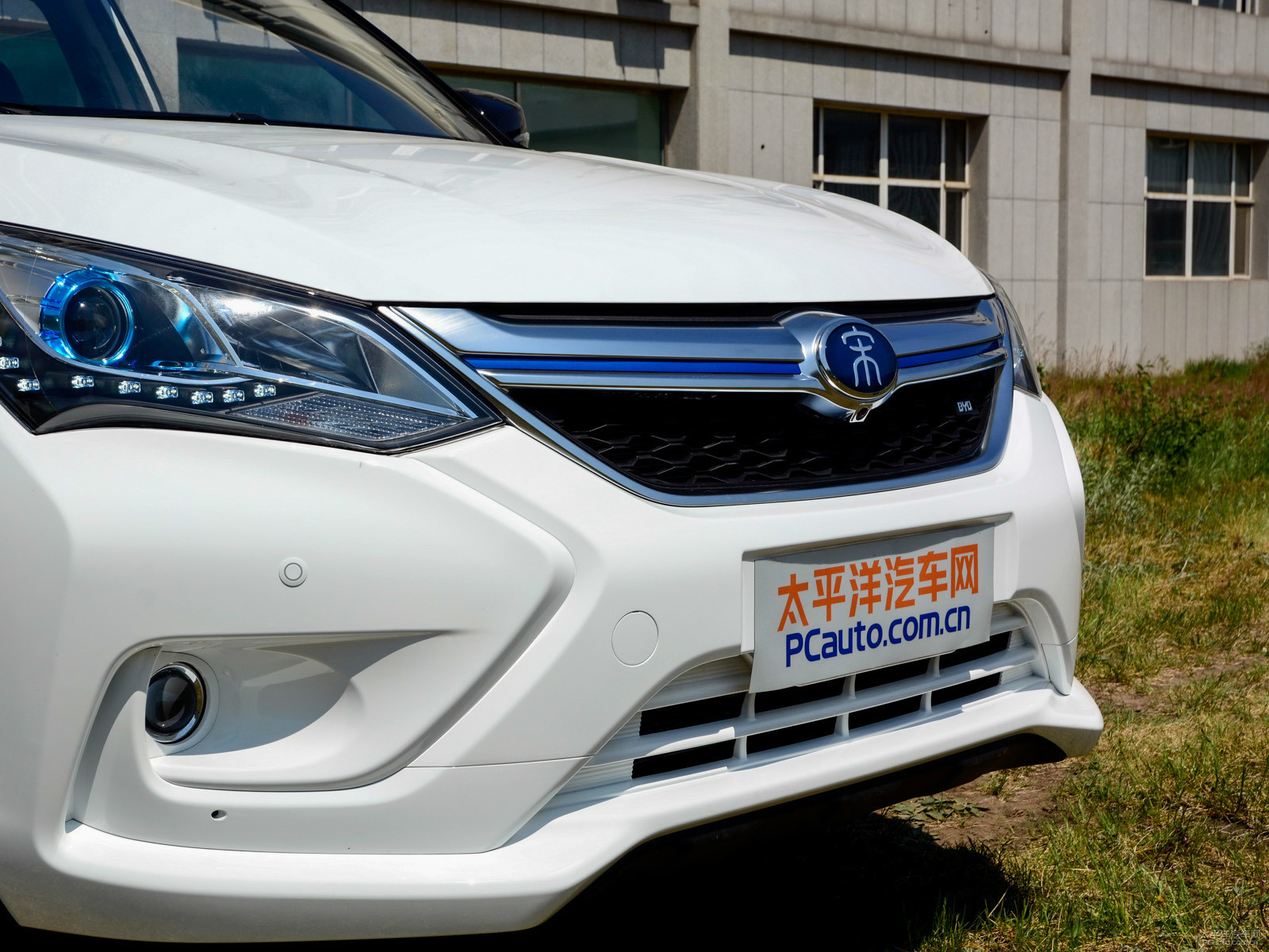BYD Song: (826, 322, 896, 392)
